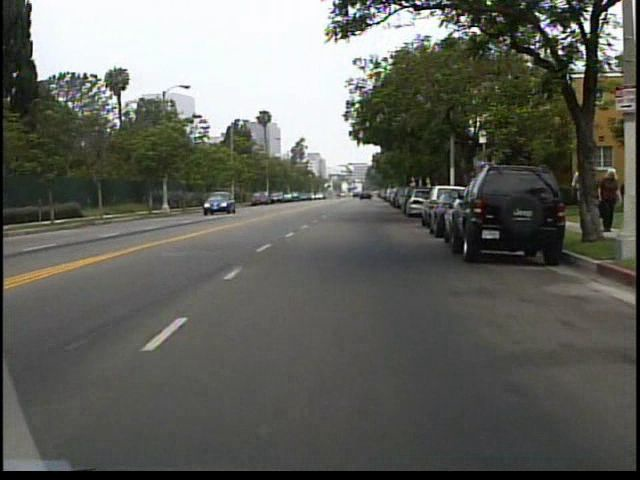person: (593, 163, 618, 238), (565, 158, 588, 235)
